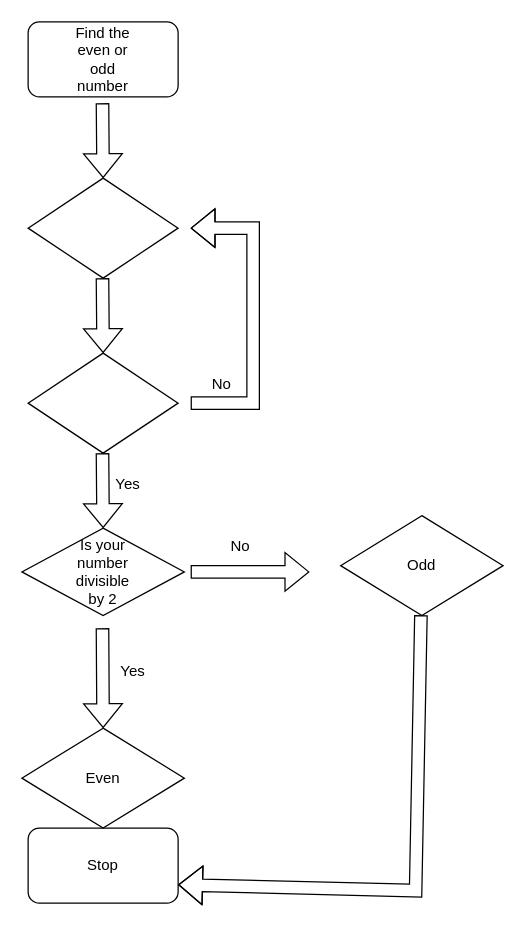
Image size: 525x928. Some labels were removed from this diagram. Each missing label, with the centre of its shape:
Get a number: the point at 102,227
Have you got your number?: the point at 102,402
